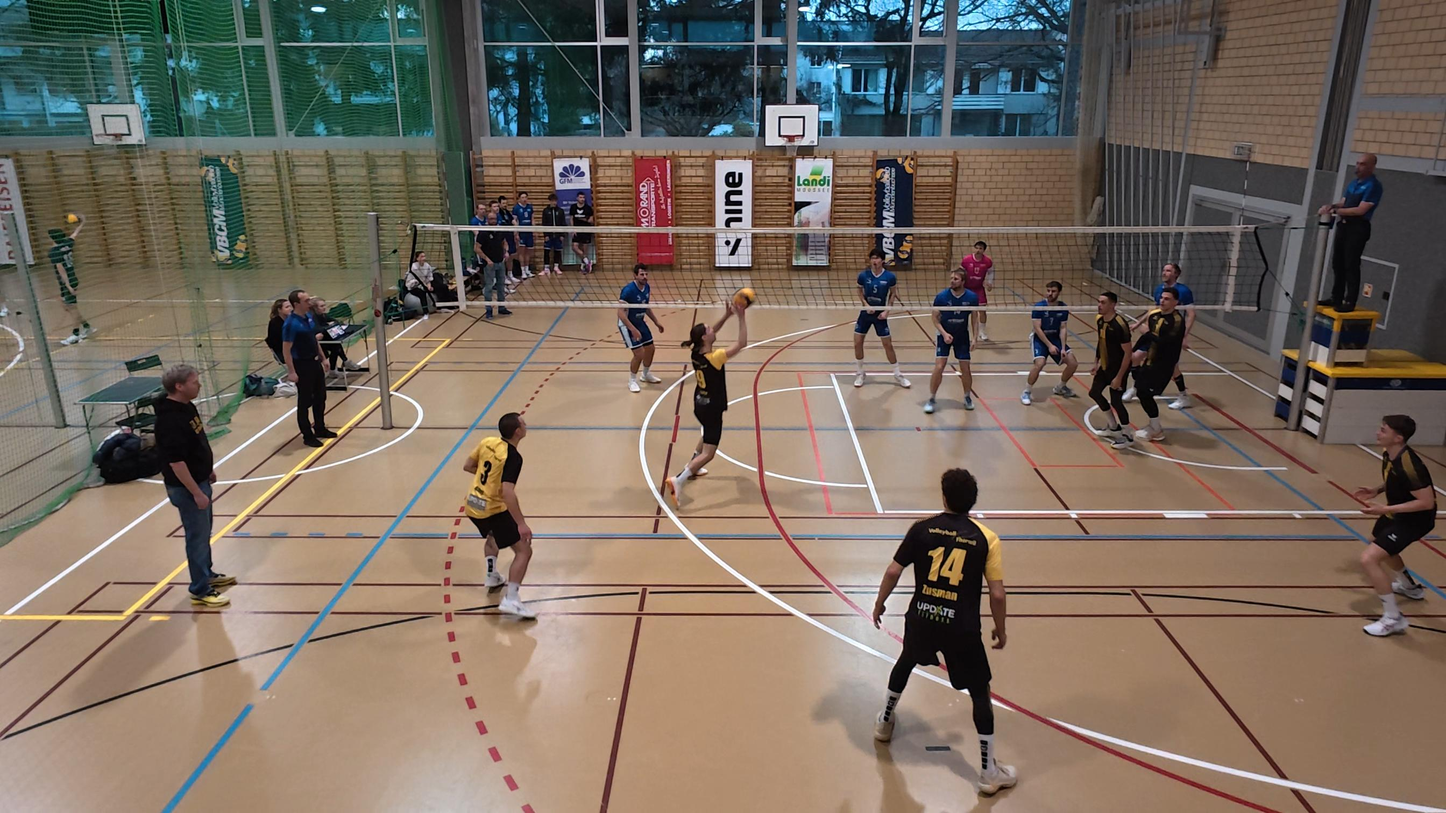Dig: (665, 301, 749, 502)
Player: (873, 468, 1017, 795), (1355, 414, 1440, 636), (462, 412, 536, 619), (1120, 289, 1189, 442), (1084, 290, 1141, 447), (921, 269, 977, 413), (853, 251, 911, 388), (1020, 280, 1076, 404), (617, 264, 665, 392), (956, 240, 996, 345)
ball: (733, 286, 757, 308)
